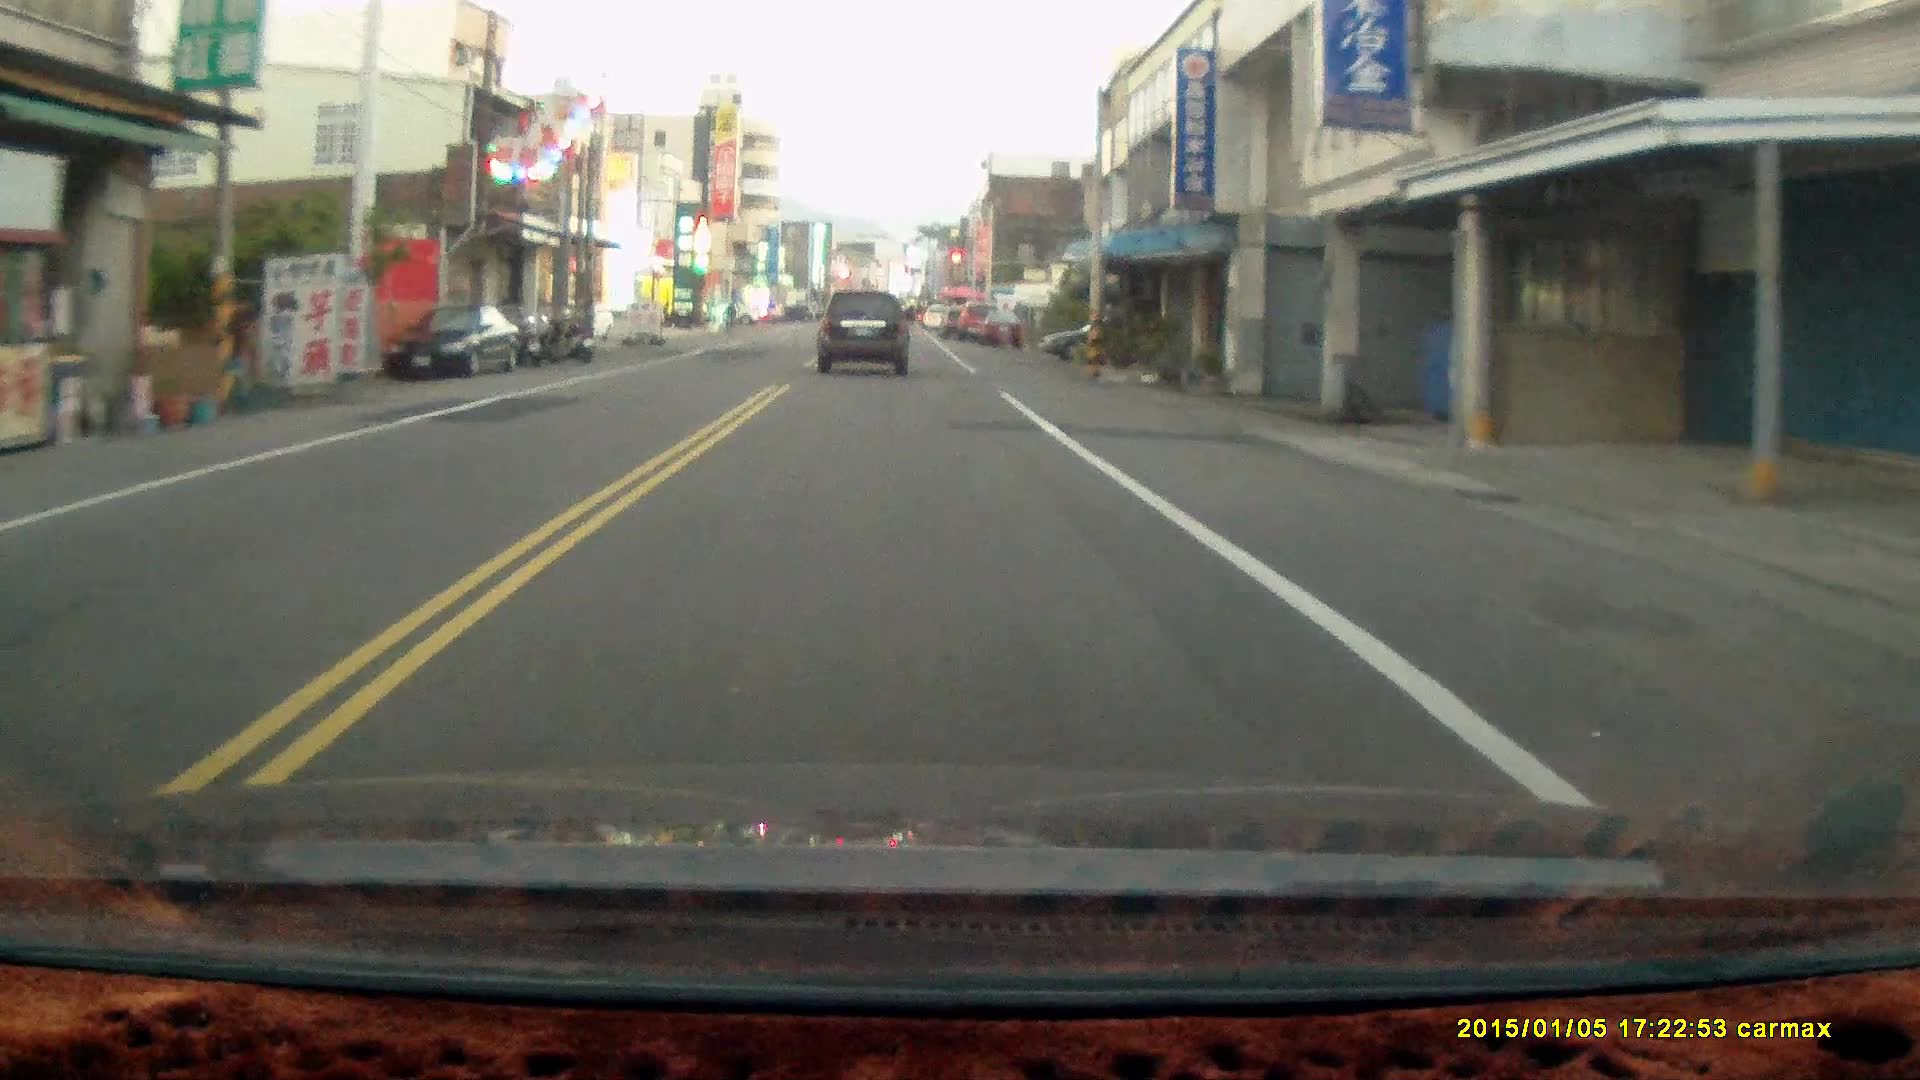pedestrian: (218, 294, 255, 406)
rider: (719, 297, 739, 332)
vehicle: (389, 305, 525, 385), (819, 292, 914, 378)
